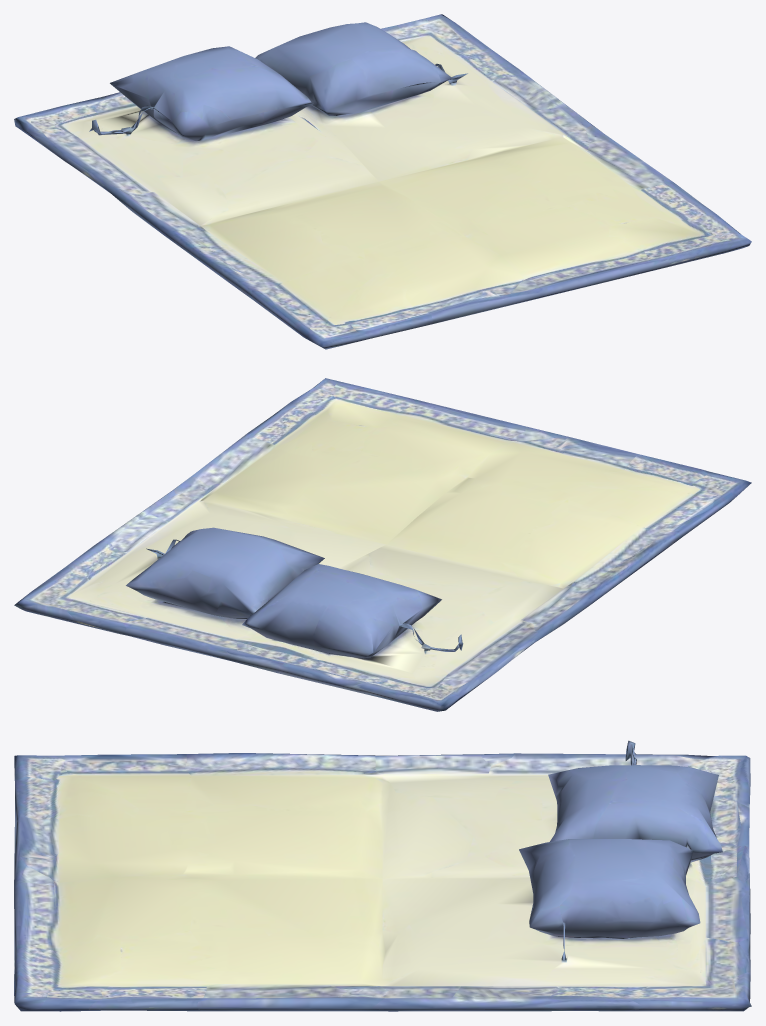
Rendered from au_furn_rug_zen.glb.
3 renders of one model, top to bottom at view 1: azimuth 30°, elevation 25°; view 2: azimuth 150°, elevation 25°; view 3: azimuth 270°, elevation 25°, orthographic. The views are drawn at different scales.
Visible parts, largest first — view 1: tripo_node_cc1d0f2c-b754-4e16-ae12-7028a9385d32; view 2: tripo_node_cc1d0f2c-b754-4e16-ae12-7028a9385d32; view 3: tripo_node_cc1d0f2c-b754-4e16-ae12-7028a9385d32.
Part boxes in pixels (x1,y1,x2,y2): tripo_node_cc1d0f2c-b754-4e16-ae12-7028a9385d32: (14,14,751,349); tripo_node_cc1d0f2c-b754-4e16-ae12-7028a9385d32: (14,378,751,711); tripo_node_cc1d0f2c-b754-4e16-ae12-7028a9385d32: (14,740,751,1011).
Bounding box in the file's own units: 0.7806 × 0.1149 × 0.9741.
1 material, 1 textured.
